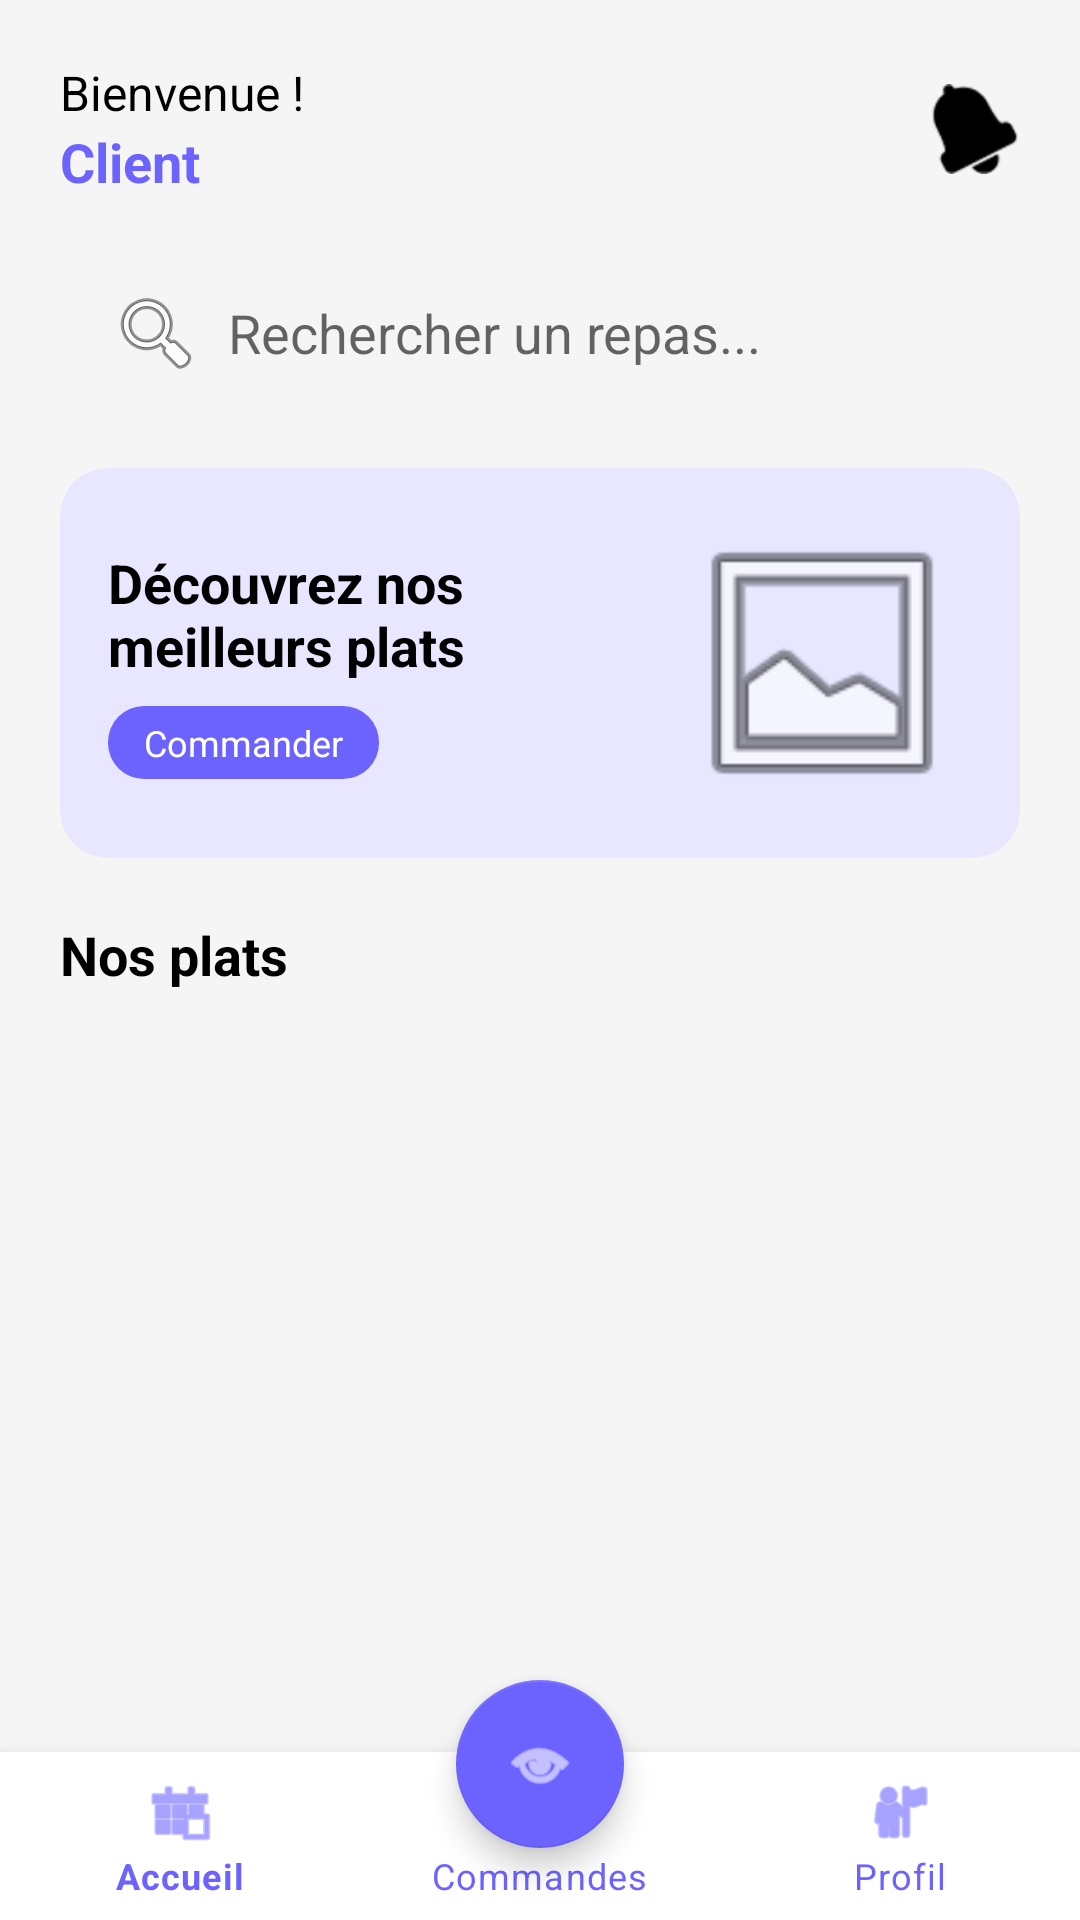

Icon bounding boxes for this 1080×1920 phone screenshot, format (x1,y1,x2,y2):
gallery: (710,551,934,775)
popup reminder: (932,84,1018,174)
view: (456,1680,624,1848)
